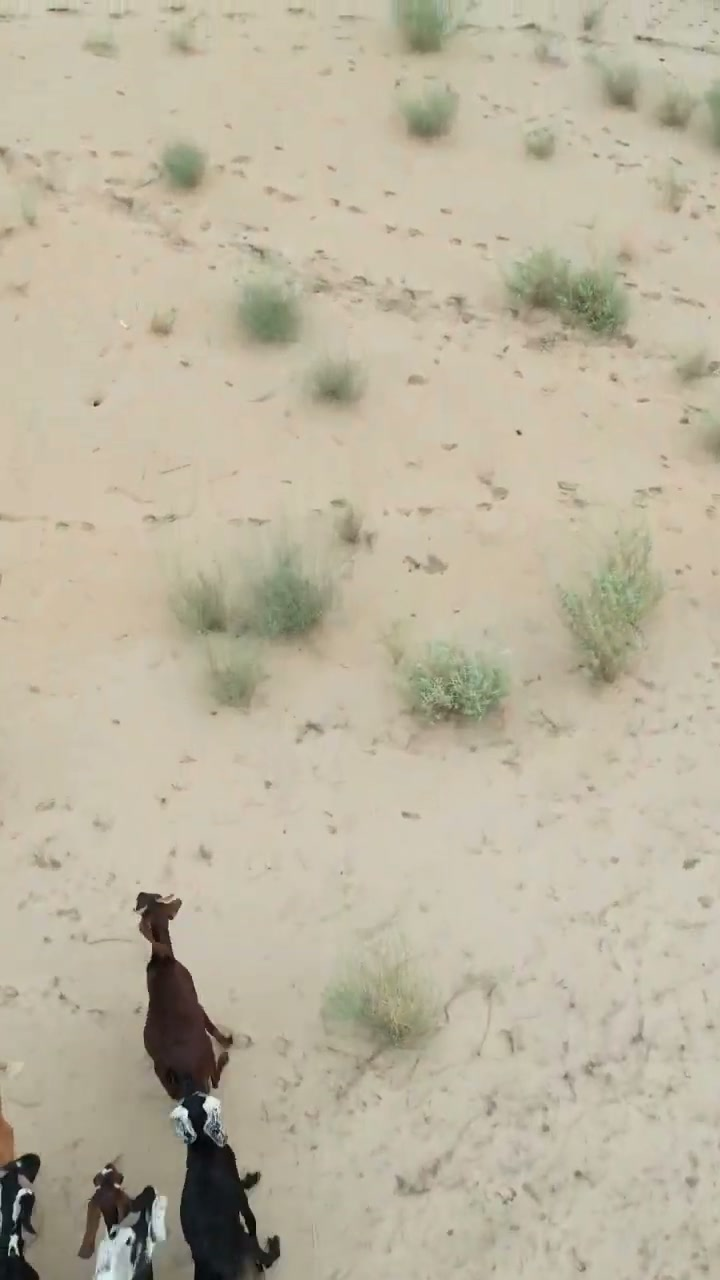animal_footprint: (21, 1014, 133, 1153)
